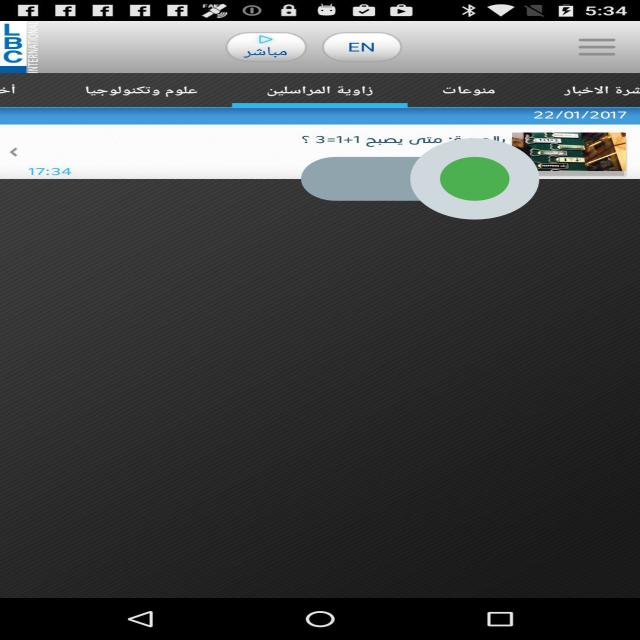social proof: (301, 104, 539, 254)
